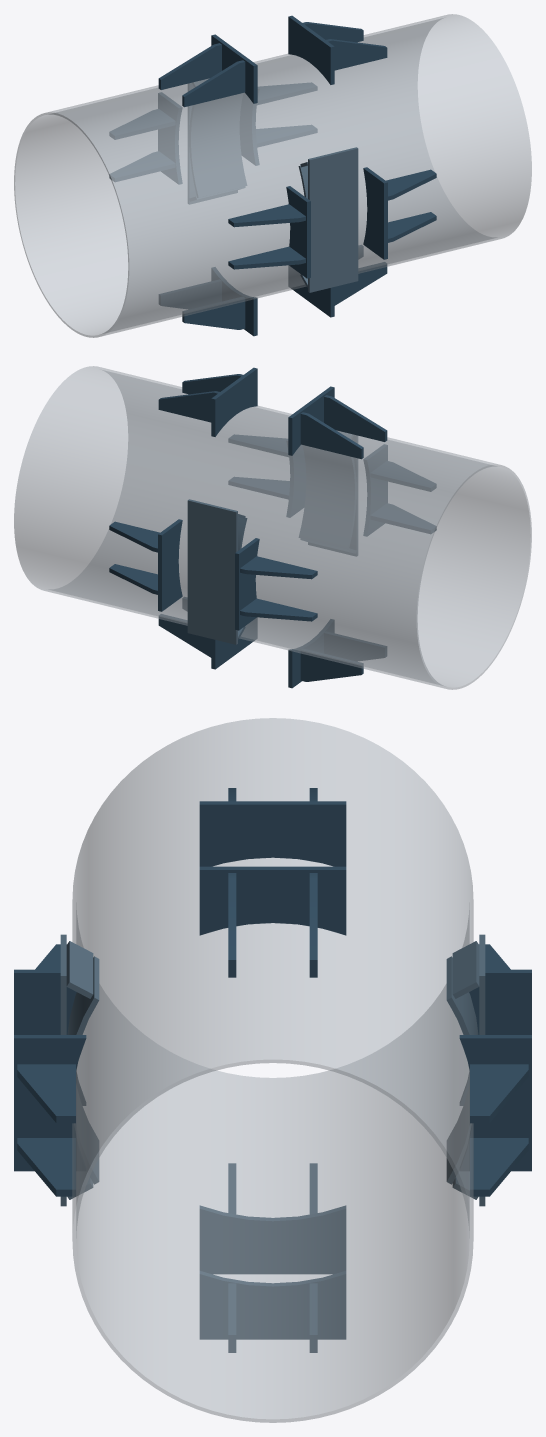
File: TS-668.00.00-18-opora-dn820-ris2.glb
3 views of the same model, one above another, from view 1: azimuth 30°, elevation 25°; view 2: azimuth 150°, elevation 25°; view 3: azimuth 270°, elevation 25° (orthographic). The views are drawn at different scales.
Parts seen in each view (by area): view 1: truba, bok_26, bok_29, upor_7, upor_1, upor_6, upor_5, upor_17, upor_10, upor_22, upor_18, upor_3 (+15 smaller); view 2: truba, bok_30, bok_25, upor_19, upor_1, upor_5, upor_6, upor_18, upor_22, upor_10, upor_17, upor_2 (+15 smaller); view 3: truba, upor_16, upor_4, upor_1, upor_13, upor_7, upor_19, upor_10, upor_22, upor_8, upor_21, upor_9 (+7 smaller).
Boxes of the visible parts, box(x1,y1,x2,y2) form: truba: box(14, 14, 531, 337); bok_26: box(308, 147, 358, 292); bok_29: box(189, 93, 246, 197); upor_7: box(363, 167, 387, 259); upor_1: box(288, 15, 334, 84); upor_6: box(182, 60, 245, 107); upor_5: box(158, 43, 221, 89); upor_17: box(182, 297, 245, 329); upor_10: box(286, 186, 310, 278); upor_22: box(158, 92, 182, 184); upor_18: box(159, 279, 221, 308); upor_3: box(326, 39, 387, 70); truba: box(14, 366, 531, 689); bok_30: box(187, 499, 237, 644); bok_25: box(299, 445, 356, 549); upor_19: box(158, 519, 182, 611); upor_1: box(211, 367, 257, 436); upor_5: box(300, 412, 363, 459); upor_6: box(324, 395, 387, 441); upor_18: box(300, 649, 363, 681); upor_22: box(235, 538, 259, 630); upor_10: box(363, 444, 387, 536); upor_17: box(324, 631, 386, 660); upor_2: box(158, 391, 219, 422); truba: box(72, 718, 473, 1422); upor_16: box(199, 1205, 346, 1274); upor_4: box(199, 801, 346, 866); upor_1: box(199, 866, 346, 935); upor_13: box(199, 1271, 346, 1339); upor_7: box(14, 1035, 86, 1171); upor_19: box(459, 1035, 531, 1171); upor_10: box(14, 969, 85, 1105); upor_22: box(460, 969, 531, 1105); upor_8: box(17, 1064, 75, 1123); upor_21: box(470, 1064, 528, 1123); upor_9: box(17, 1138, 75, 1196).
Size of the model in its own units: 1652 by 1059 by 1059.
